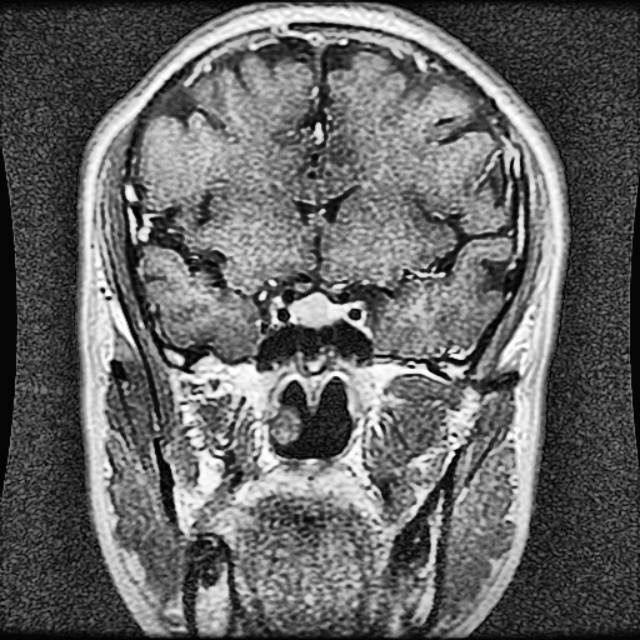Pituitary: (287, 293, 334, 325)
